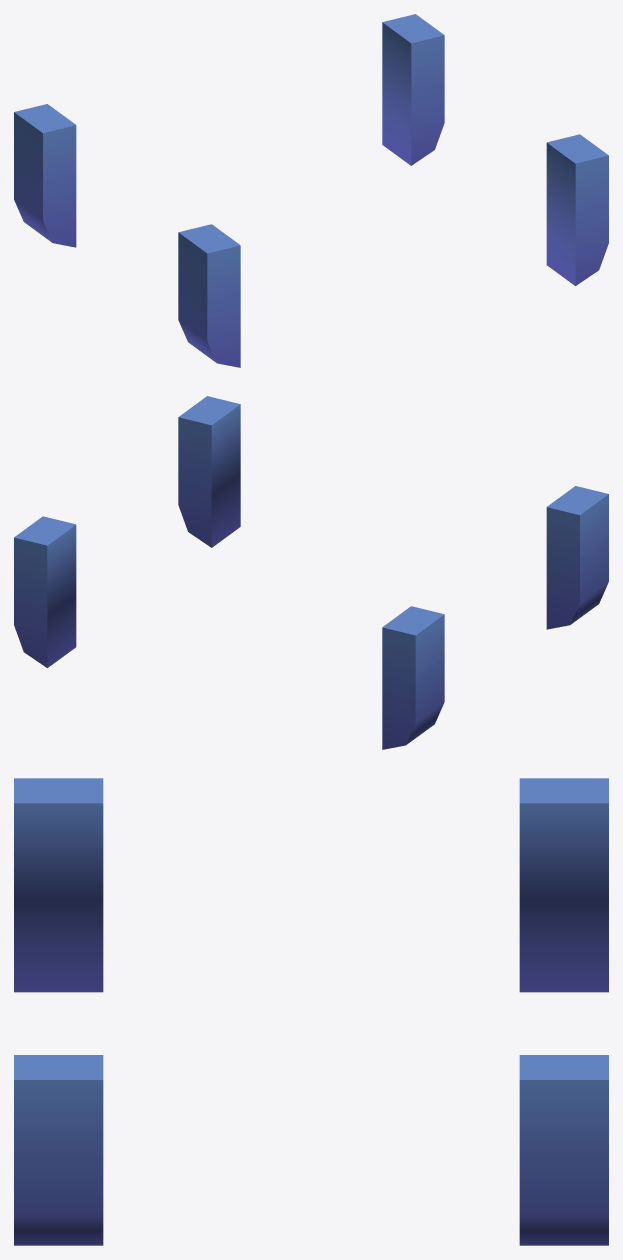
Rendered from kenney-toy-car-supports-clamp.glb.
3 renders of one model, top to bottom at view 1: azimuth 30°, elevation 25°; view 2: azimuth 150°, elevation 25°; view 3: azimuth 270°, elevation 25°, orthographic. The views are drawn at different scales.
Visible parts, largest first — view 1: supports-clamp; view 2: supports-clamp; view 3: supports-clamp.
Boxes of the visible parts, x1,y1,x2,y2 form: supports-clamp: [14, 14, 608, 367]; supports-clamp: [14, 396, 608, 749]; supports-clamp: [14, 778, 608, 1245].
Bounding box in the file's own units: 1.2 × 0.35 × 1.
Materials: 1 (1 with a texture image).
